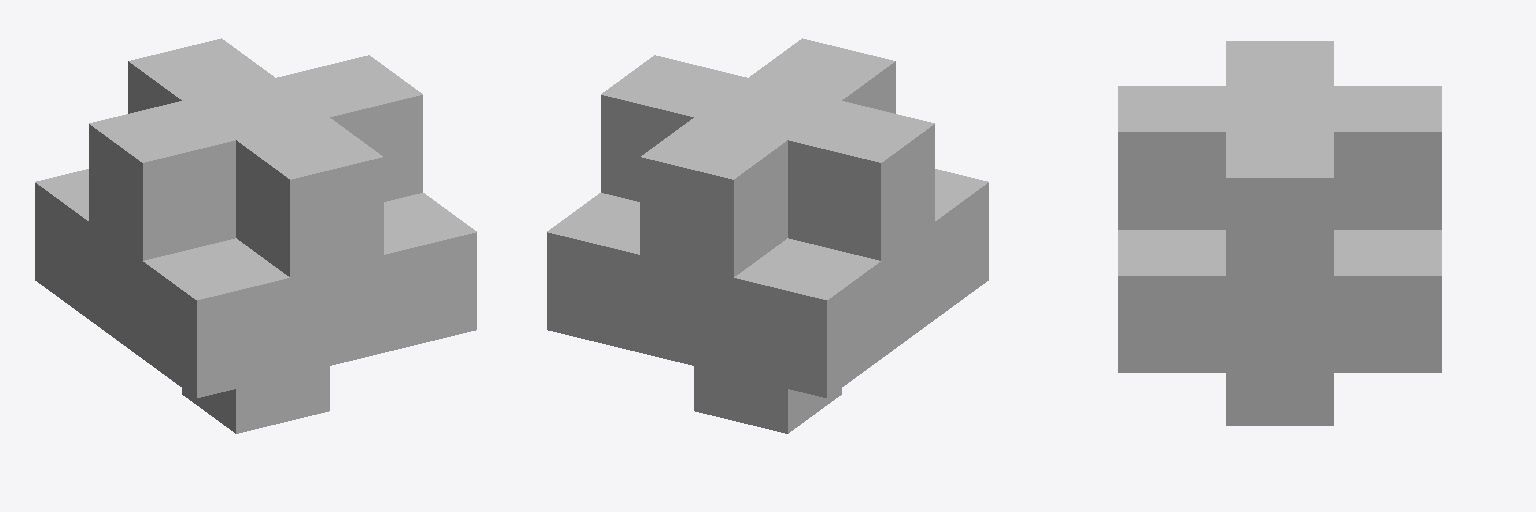
File: mushroom.obj
3 renders of one model, left to right at view 1: azimuth 30°, elevation 25°; view 2: azimuth 150°, elevation 25°; view 3: azimuth 270°, elevation 25°, orthographic.
Parts seen in each view (by area): view 1: object 1; view 2: object 1; view 3: object 1.
Boxes of the visible parts, <box> form: object 1: <box>35,38,476,433</box>; object 1: <box>547,38,988,433</box>; object 1: <box>1118,41,1441,425</box>.
Size of the model in its own units: 0.3 by 0.3 by 0.3.